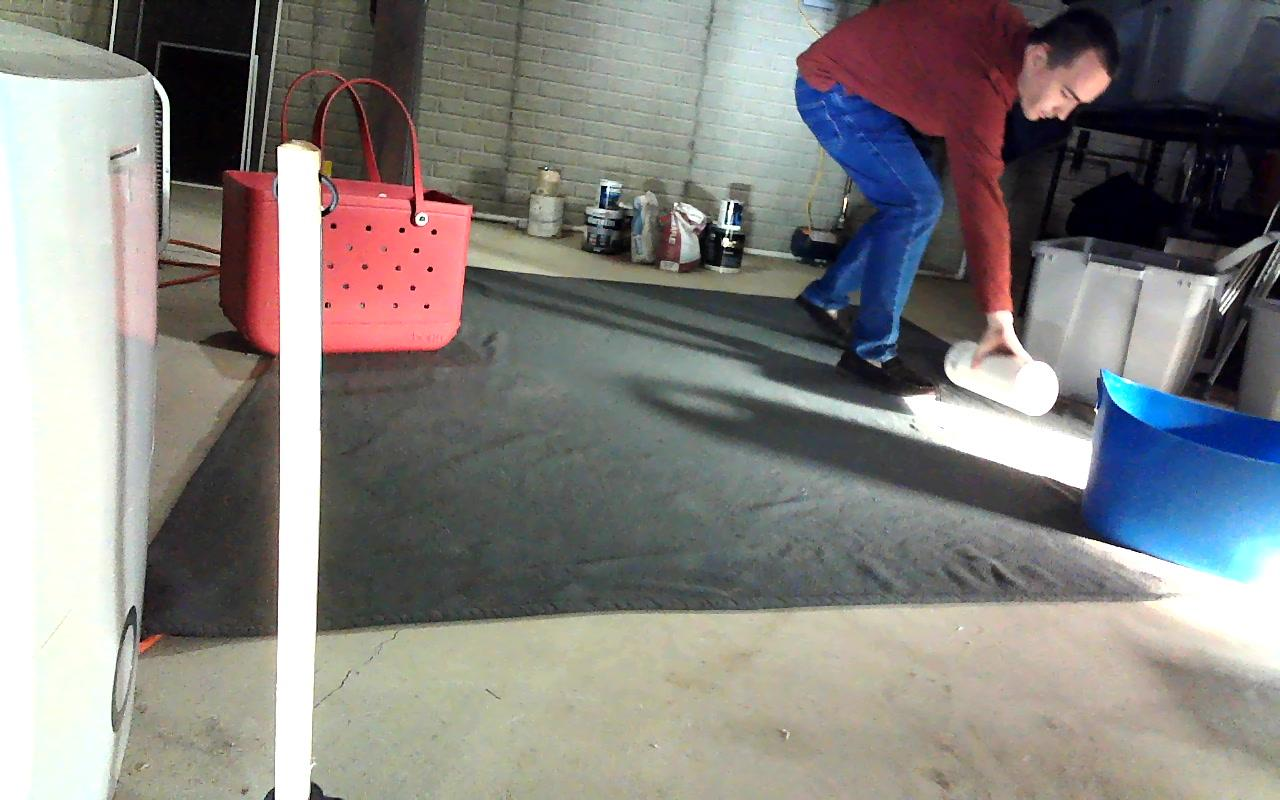coral: (944, 341, 1057, 415)
